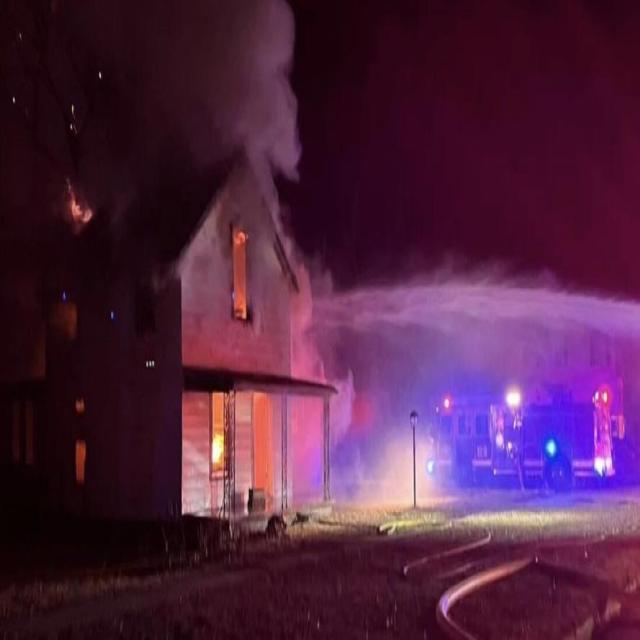Smoke: (141, 0, 308, 165)
